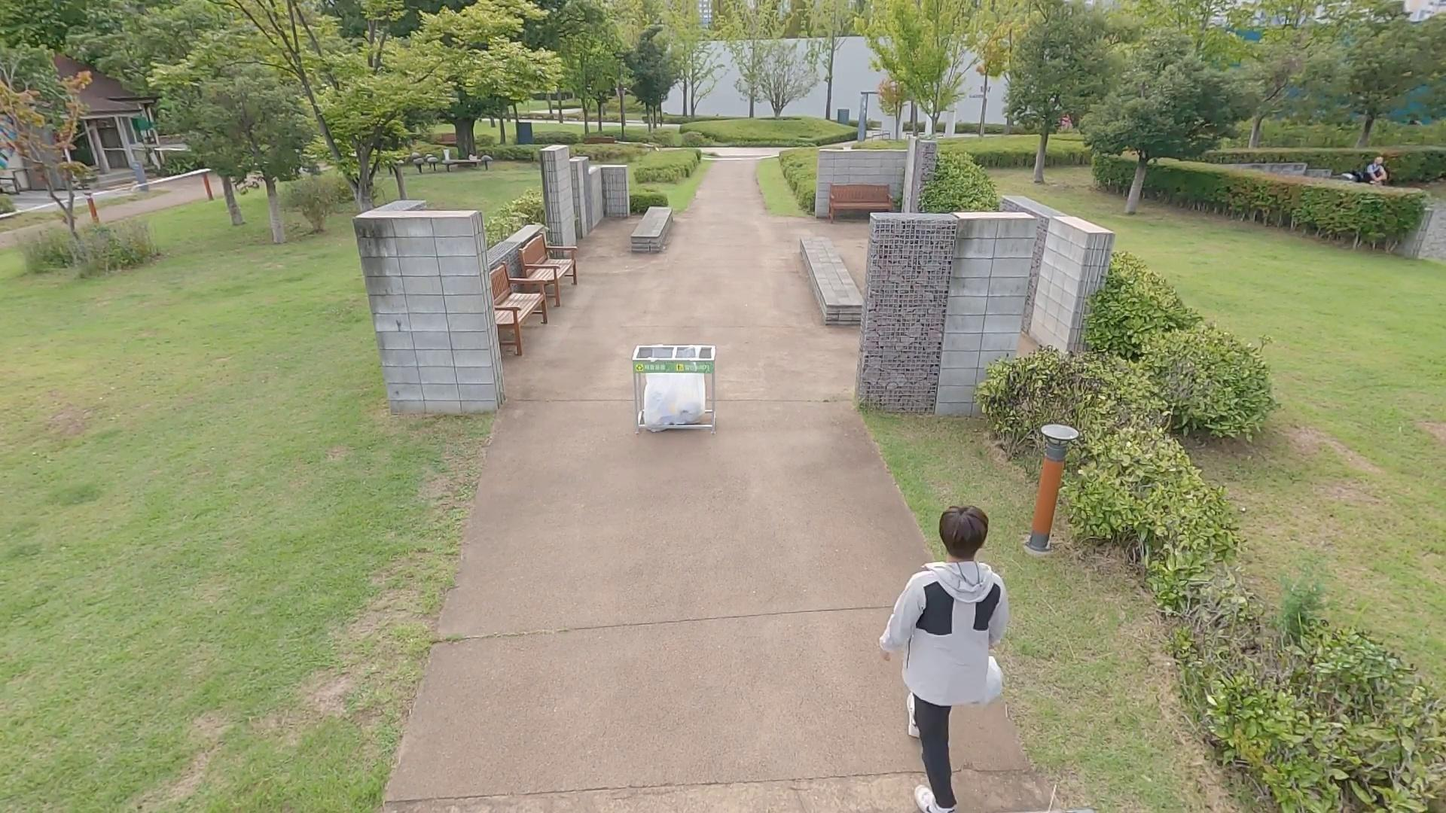person: (864, 487, 1045, 813), (1355, 145, 1400, 193)
trash: (973, 649, 1012, 716)
